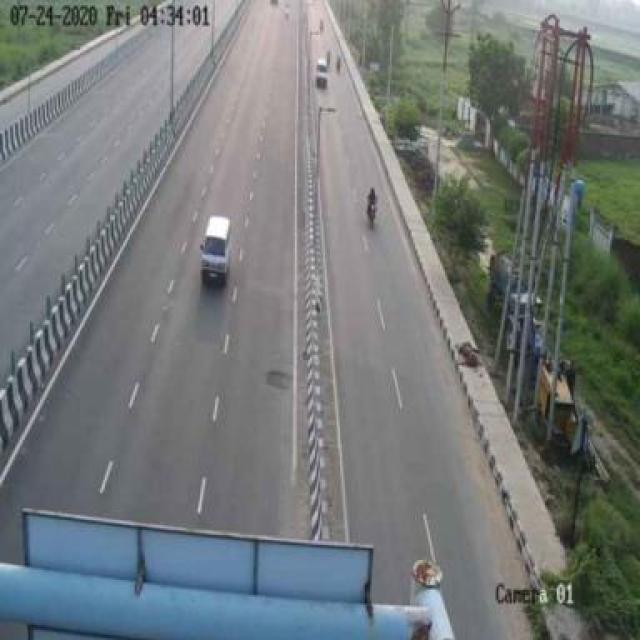car: (190, 210, 237, 293)
